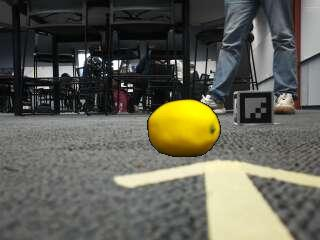lemon: (148, 100, 219, 157)
